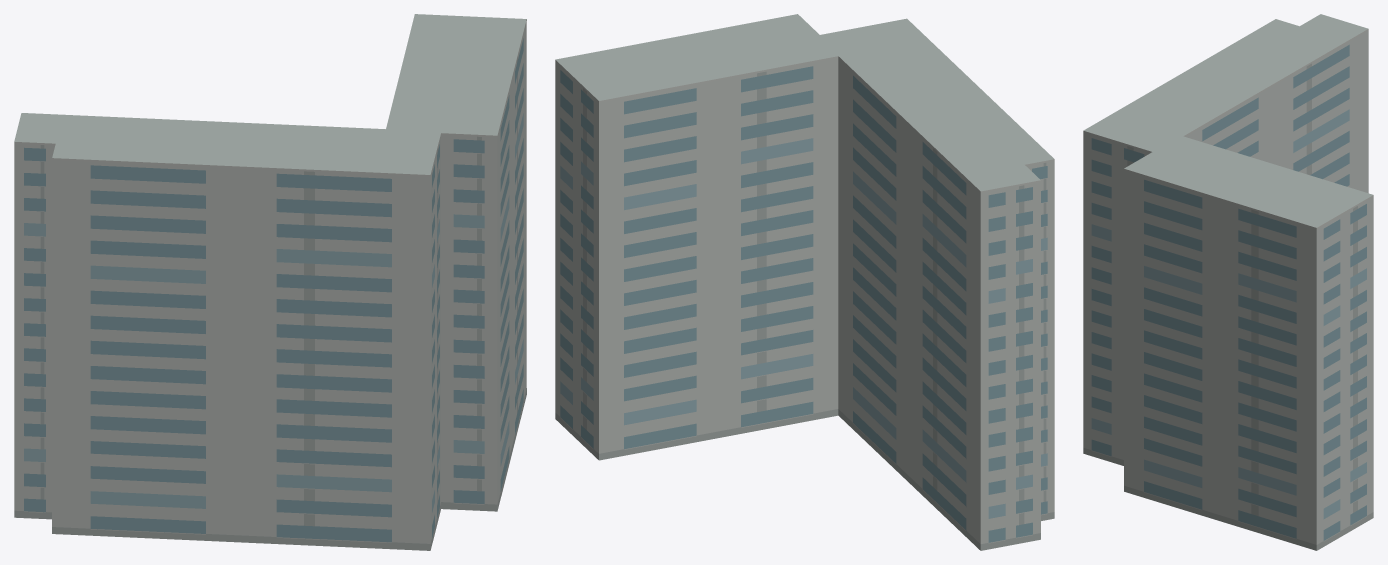
File: residential-763f6a19-d871-4781-8bb2-be9a5c62afe9.glb
The picture shows the model from 3 angles, left to right: view 1: azimuth 30°, elevation 25°; view 2: azimuth 150°, elevation 25°; view 3: azimuth 270°, elevation 25°; orthographic projection. The views are drawn at different scales.
Visible parts, largest first — view 1: residential-763f6a19-d871-4781-8bb2-be9a5c62afe9.tmp; view 2: residential-763f6a19-d871-4781-8bb2-be9a5c62afe9.tmp; view 3: residential-763f6a19-d871-4781-8bb2-be9a5c62afe9.tmp.
Boxes of the visible parts, <box> form: residential-763f6a19-d871-4781-8bb2-be9a5c62afe9.tmp: <box>14,14,526,550</box>; residential-763f6a19-d871-4781-8bb2-be9a5c62afe9.tmp: <box>555,14,1054,550</box>; residential-763f6a19-d871-4781-8bb2-be9a5c62afe9.tmp: <box>1083,14,1373,550</box>.
Size of the model in its own units: 65 by 45.75 by 37.28.
